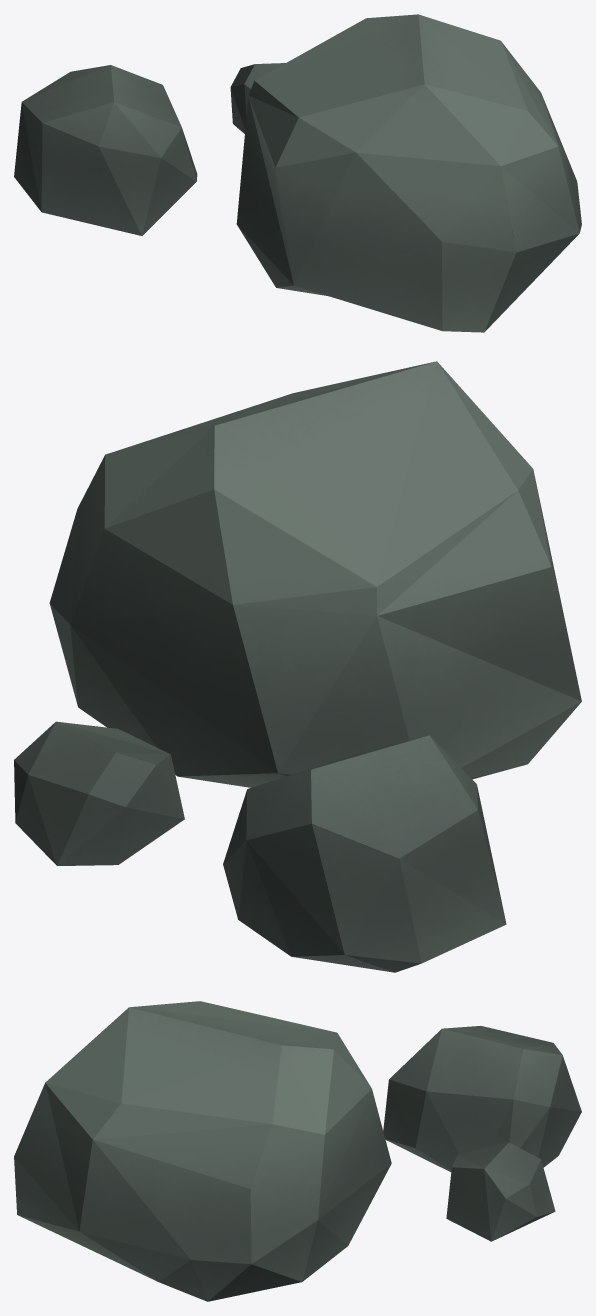
File: pebbles 1.fbx
3 renders of one model, top to bottom at view 1: azimuth 30°, elevation 25°; view 2: azimuth 150°, elevation 25°; view 3: azimuth 270°, elevation 25°, orthographic. The views are drawn at different scales.
Parts seen in each view (by area): view 1: Pebbles 1 EXP; view 2: Pebbles 1 EXP; view 3: Pebbles 1 EXP.
Part boxes in pixels (<box>): Pebbles 1 EXP: <box>14,14,581,332</box>; Pebbles 1 EXP: <box>14,361,581,972</box>; Pebbles 1 EXP: <box>14,1001,581,1301</box>.
Size of the model in its own units: 98.87 by 52.04 by 119.
Materials: 1 (1 with a texture image).
